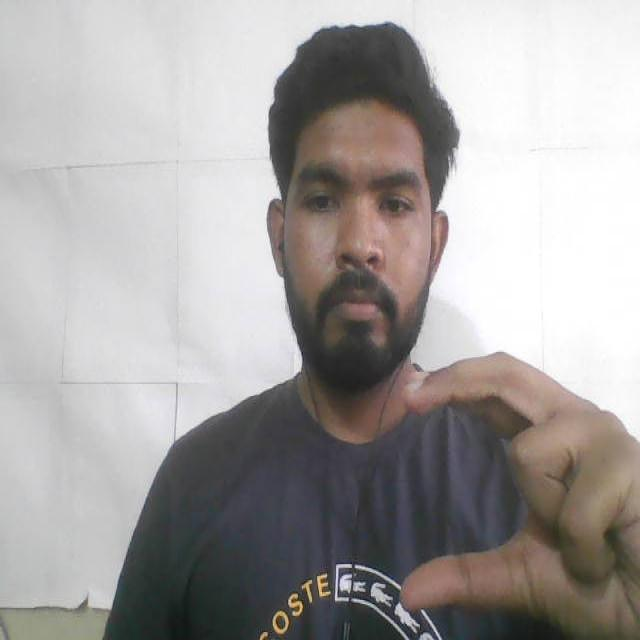No: (388, 324, 640, 640)
